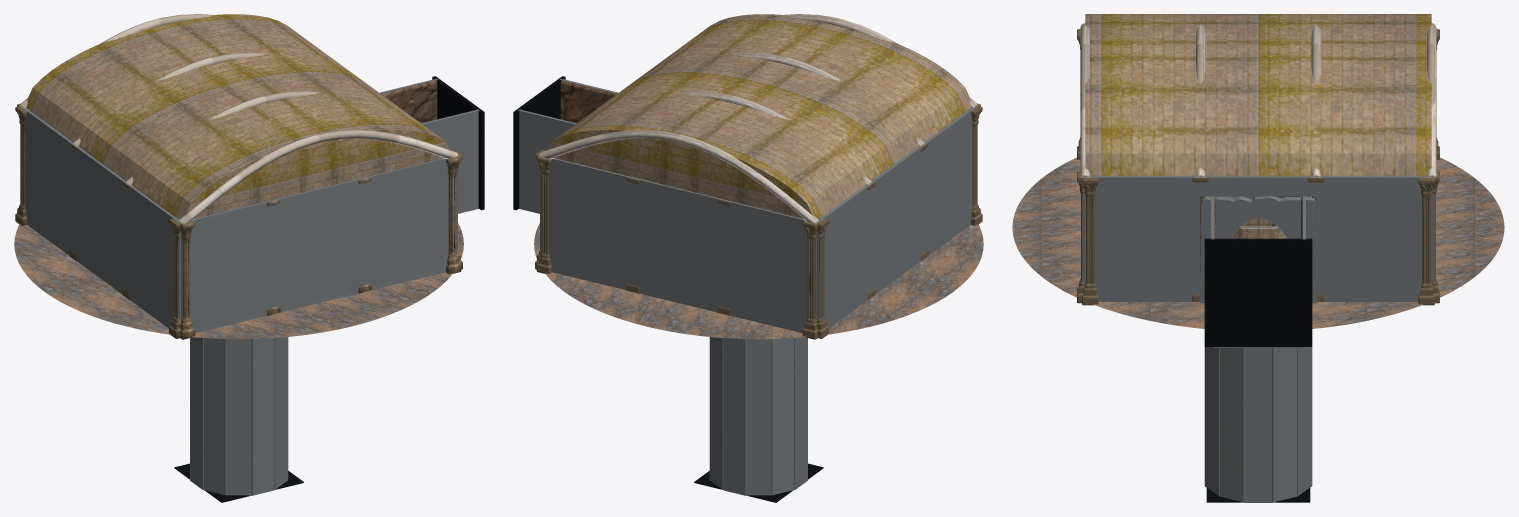
Rendered from room.glb.
3 views of the same model, side by side, from view 1: azimuth 30°, elevation 25°; view 2: azimuth 150°, elevation 25°; view 3: azimuth 270°, elevation 25° (orthographic). The views are drawn at different scales.
Parts seen in each view (by area): view 1: WELL-TOP; view 2: WELL-TOP; view 3: WELL-TOP.
Boxes of the visible parts, box(x1,y1,x2,y2) form: WELL-TOP: box(14, 14, 484, 502); WELL-TOP: box(513, 14, 983, 502); WELL-TOP: box(1012, 14, 1504, 502).
Size of the model in its own units: 15.16 by 13.91 by 14.2.
1 material, 1 textured.
